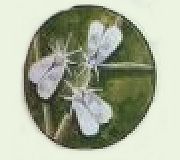whitefly: (28, 39, 78, 99), (62, 80, 114, 137), (79, 19, 122, 81)
